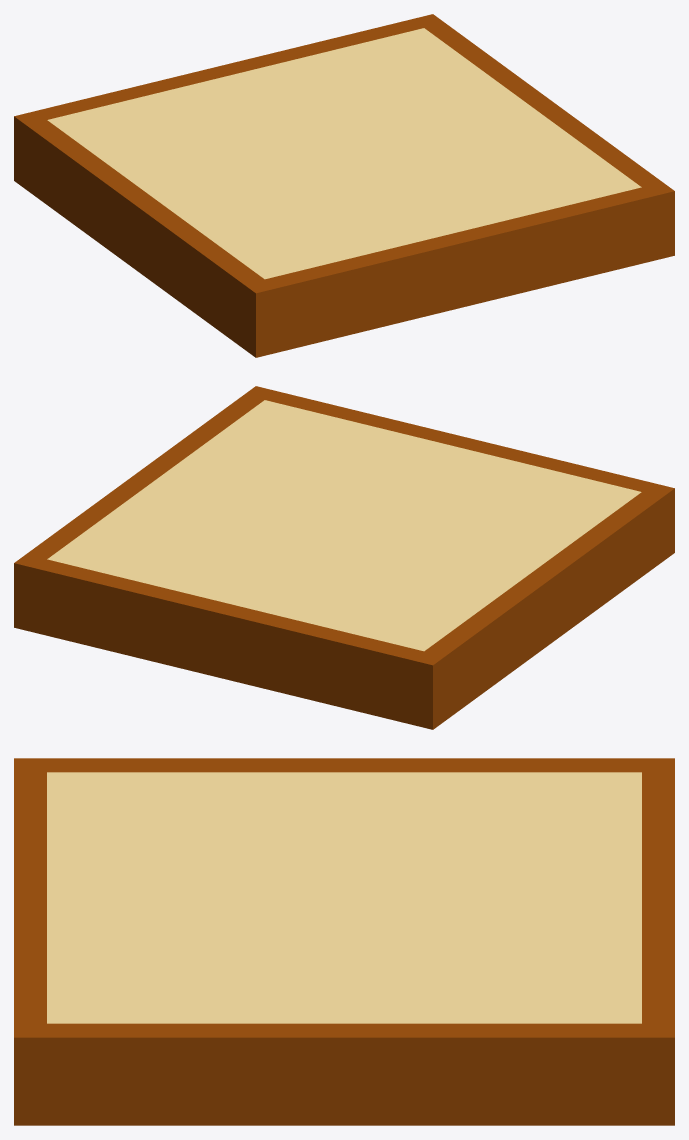
Rendered from Bread.FBX.
3 views of the same model, one above another, from view 1: azimuth 30°, elevation 25°; view 2: azimuth 150°, elevation 25°; view 3: azimuth 270°, elevation 25° (orthographic). The views are drawn at different scales.
Parts seen in each view (by area): view 1: Box002; view 2: Box002; view 3: Box002.
Part boxes in pixels (box(x1,y1,x2,y2)): Box002: box(14, 14, 674, 357); Box002: box(14, 386, 674, 729); Box002: box(14, 758, 674, 1125).
Bounding box in the file's own units: 26.62 × 3.92 × 26.62.
